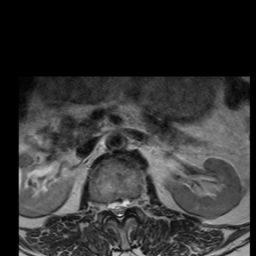CCS_normal: (115, 192, 123, 226)
LFS_normal: (130, 187, 138, 216)
LLS_normal: (123, 190, 131, 217)
RFS_normal: (99, 193, 107, 218)
RLS_normal: (107, 193, 115, 219)
